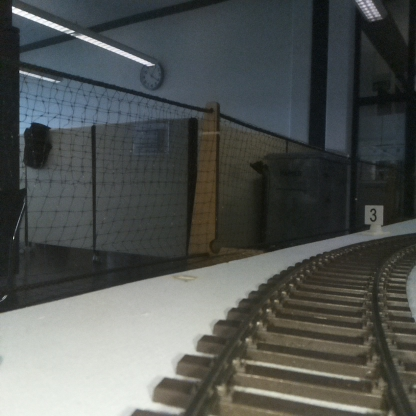white-stop-3: (364, 205, 383, 236)
